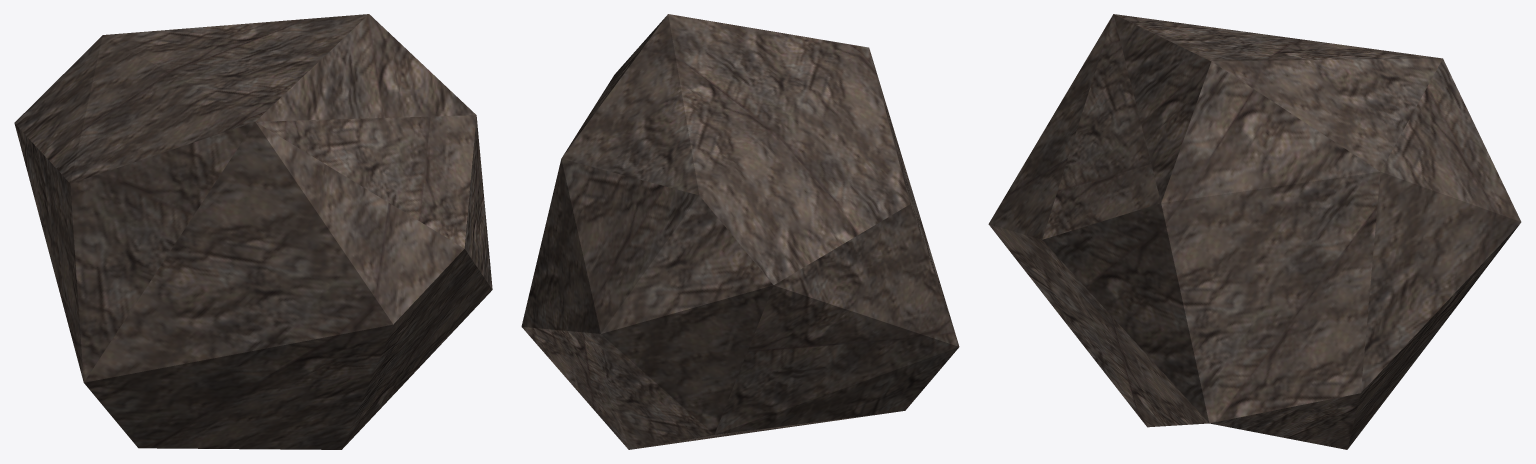
File: LampLight_Rock_3.FBX
3 views of the same model, side by side, from view 1: azimuth 30°, elevation 25°; view 2: azimuth 150°, elevation 25°; view 3: azimuth 270°, elevation 25° (orthographic). The views are drawn at different scales.
Parts seen in each view (by area): view 1: Bg_Rock_3; view 2: Bg_Rock_3; view 3: Bg_Rock_3.
Part boxes in pixels (x1=…): Bg_Rock_3: x1=14, y1=14, x2=492, y2=449; Bg_Rock_3: x1=521, y1=14, x2=959, y2=449; Bg_Rock_3: x1=988, y1=14, x2=1521, y2=449.
Bounding box in the file's own units: 78.38 × 72.28 × 86.97.
